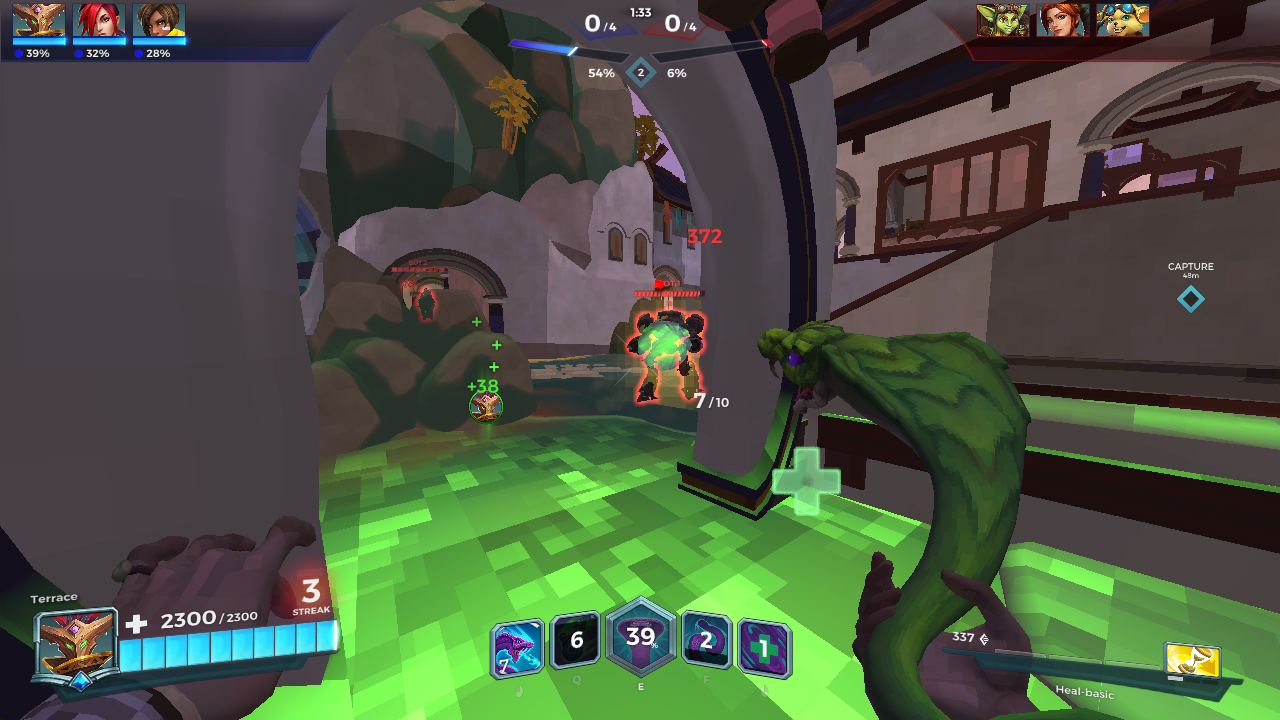model: (626, 304, 708, 406), (408, 281, 442, 327)
